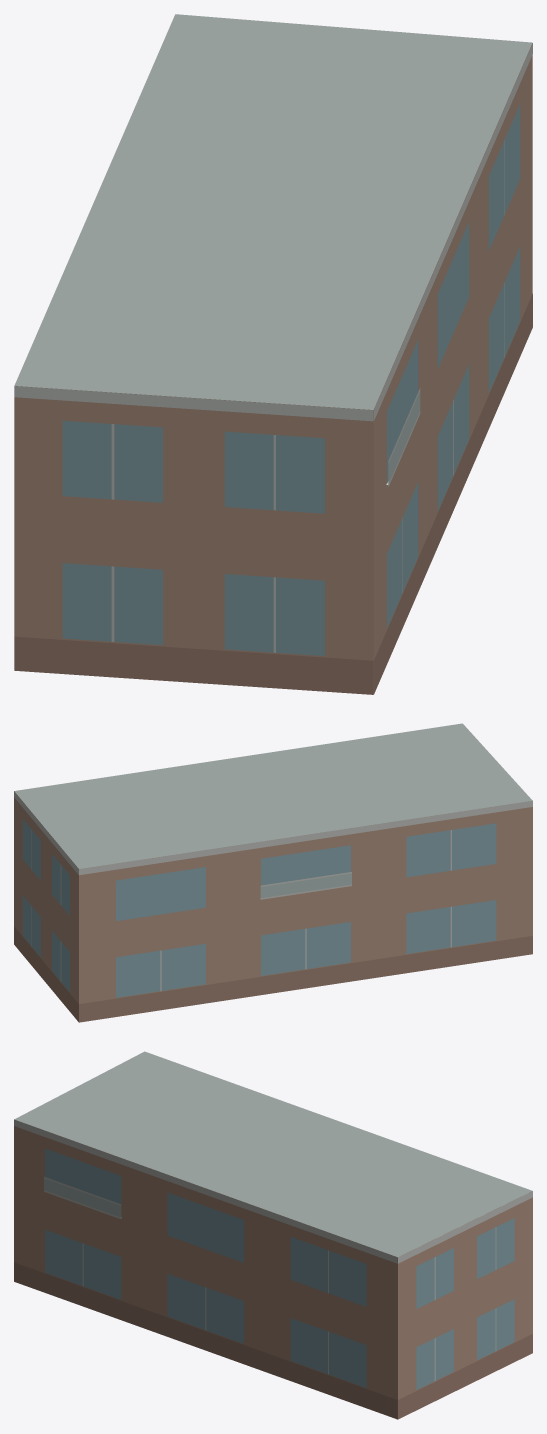
The model's file is survey-upis-32803889.glb.
3 renders of one model, top to bottom at view 1: azimuth 30°, elevation 25°; view 2: azimuth 150°, elevation 25°; view 3: azimuth 270°, elevation 25°, orthographic. The views are drawn at different scales.
Visible parts, largest first — view 1: survey-upis-32803889.tmp; view 2: survey-upis-32803889.tmp; view 3: survey-upis-32803889.tmp.
Boxes of the visible parts, x1,y1,x2,y2 form: survey-upis-32803889.tmp: (14, 14, 532, 694); survey-upis-32803889.tmp: (14, 723, 532, 1022); survey-upis-32803889.tmp: (14, 1051, 532, 1419).
Size of the model in its own units: 16.61 by 6.1 by 17.69.
